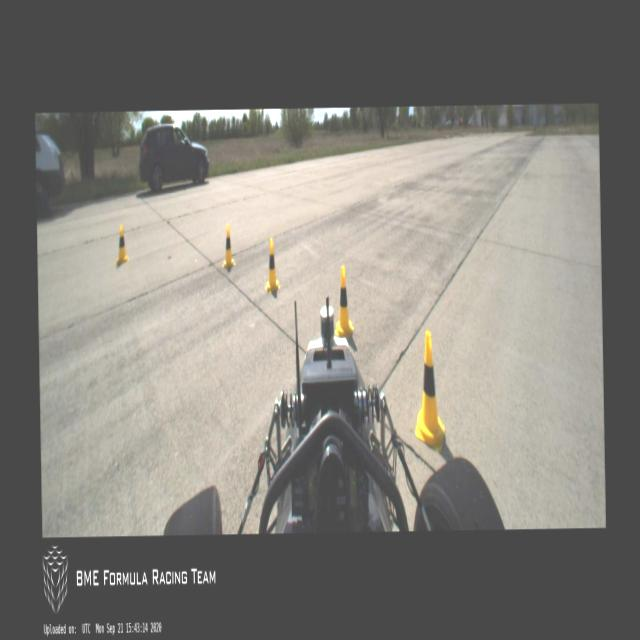yellow_cone: (414, 330, 444, 450), (332, 266, 353, 340), (264, 238, 278, 294), (114, 224, 128, 264), (221, 225, 234, 268)
